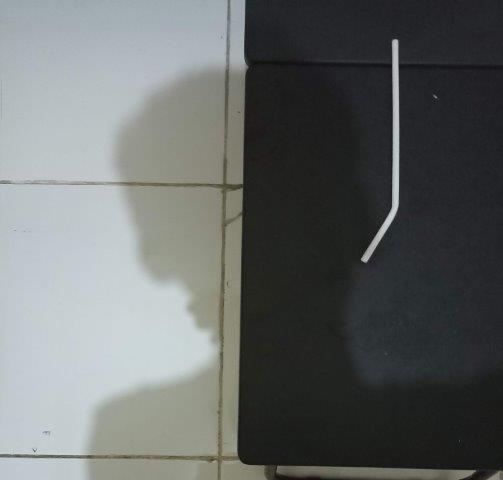sedotan: (360, 39, 400, 262)
